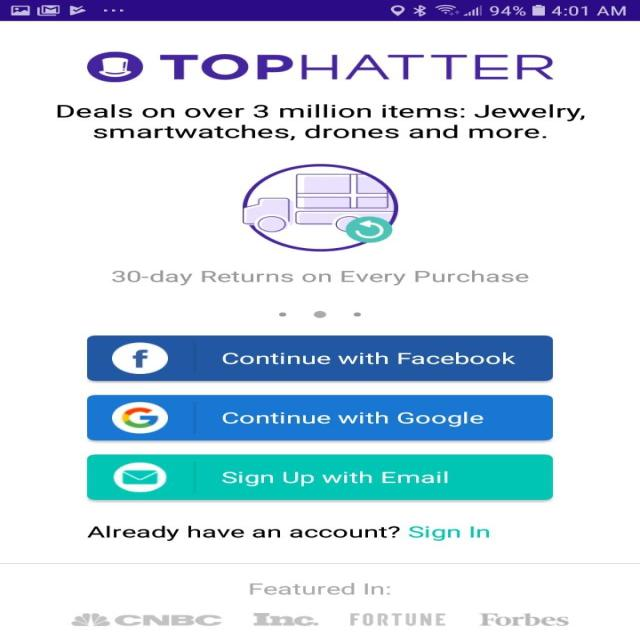Image: (86, 51, 554, 83), (242, 163, 398, 252), (70, 612, 110, 626)
Text: (56, 104, 585, 141), (111, 269, 529, 286), (86, 525, 489, 541), (248, 582, 390, 594), (114, 614, 222, 626), (477, 612, 567, 626), (350, 612, 446, 625), (252, 612, 318, 625)
TextButton: (87, 454, 553, 500), (87, 394, 553, 440), (87, 335, 553, 381)
